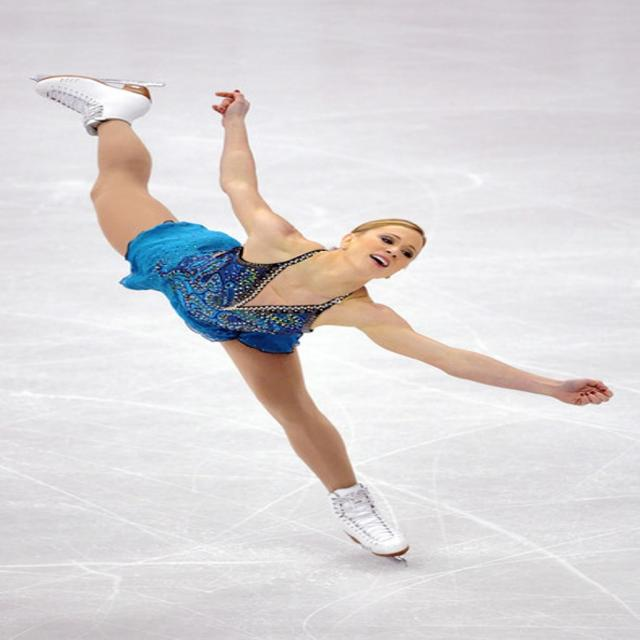nomask: (350, 224, 421, 272)
